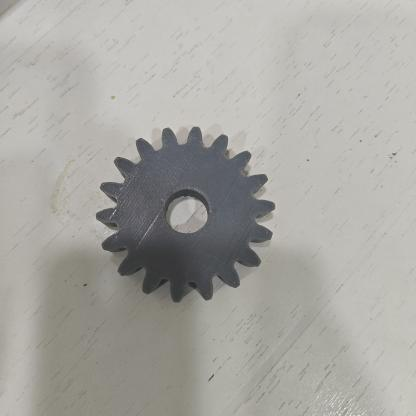gear: (74, 115, 294, 319)
